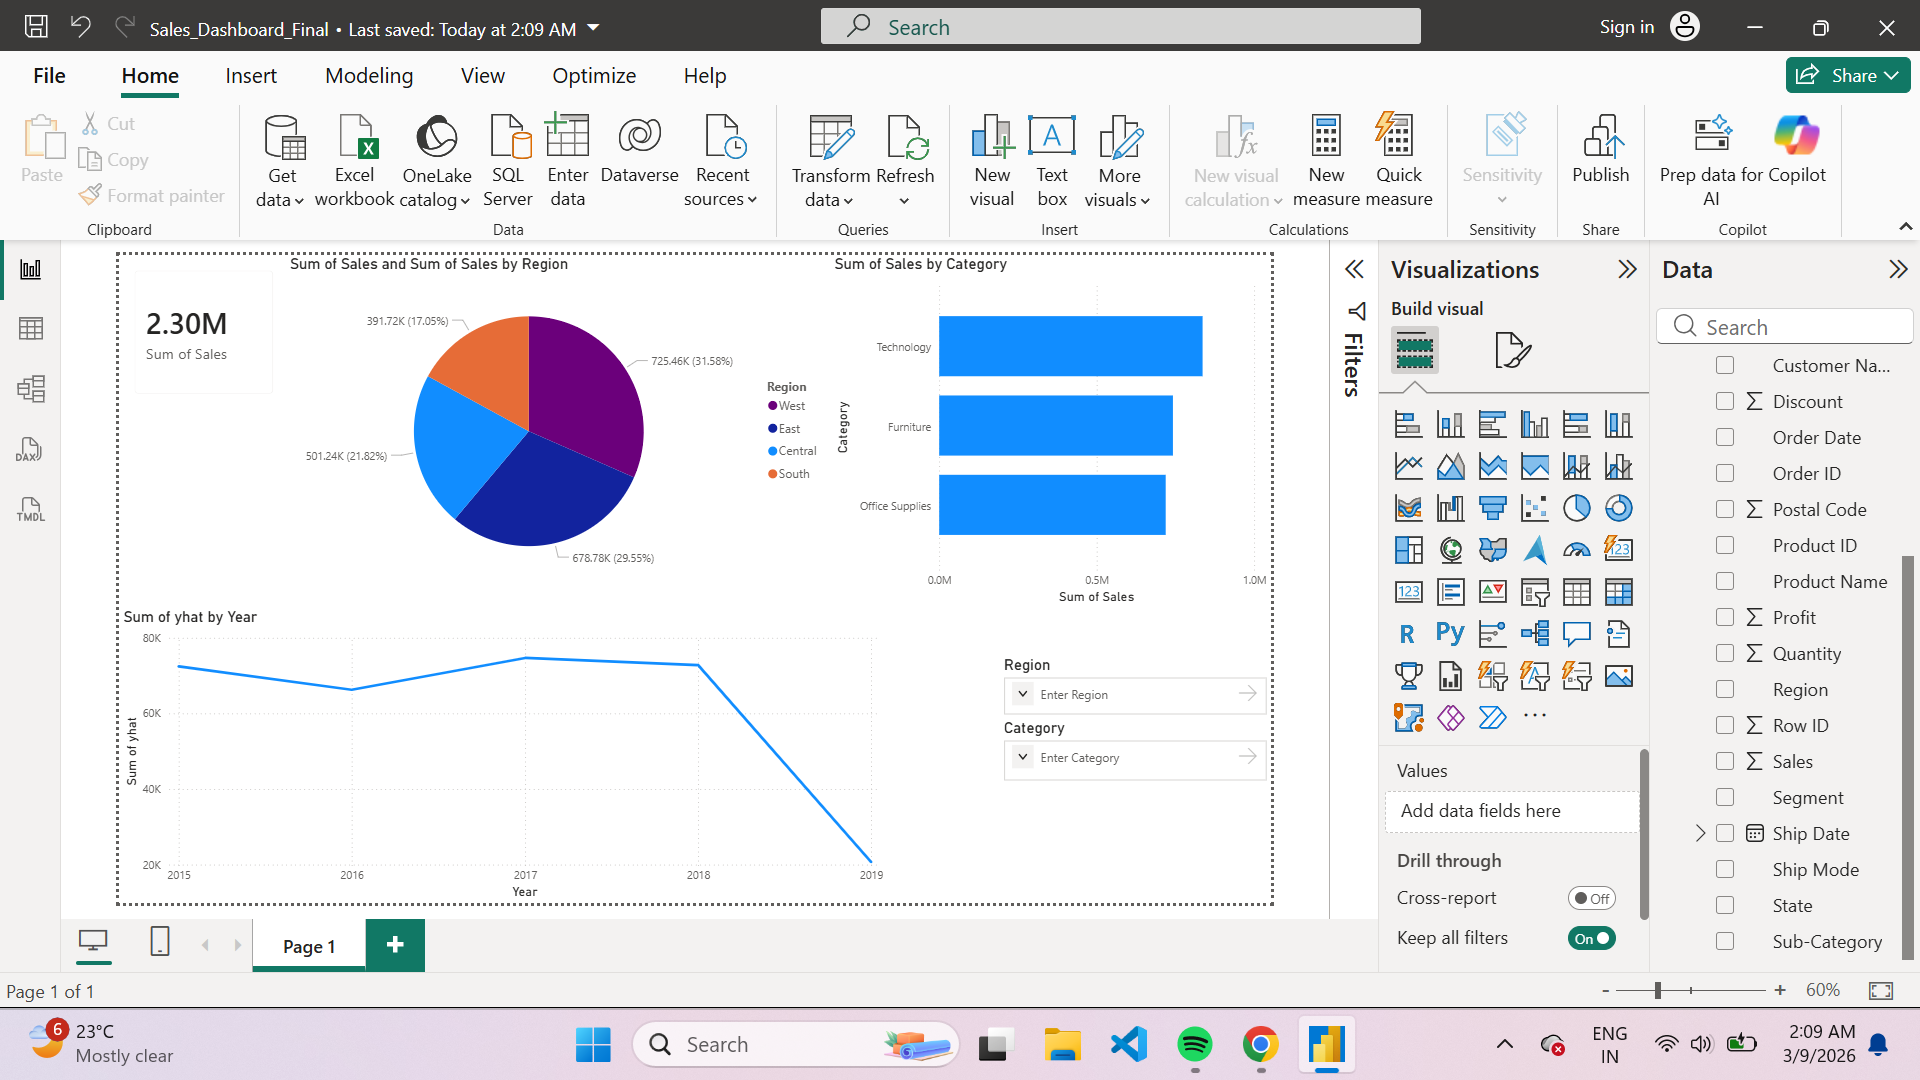

What the dashboard file says about the page in this screenshot:
{"tool":"powerbi","page":{"name":"Page 1","canvas":[1280,720],"ordinal":0},"visuals":[{"type":"pieChart","fields":{"Category":["superstore.Region","superstore.Category"],"Y":["Sum(superstore.Sales)","Sum(superstore.Sales)"]},"box":[185,0,605,371.7],"z":0},{"type":"barChart","fields":{"Category":["superstore.Category"],"Y":["Sum(superstore.Sales)"]},"box":[790,0,490,391.7],"z":1000},{"type":"cardVisual","fields":{"Data":["Sum(superstore.Sales)"]},"box":[0,0,188.3,171.7],"z":2000},{"type":"lineChart","fields":{"Category":["sales_prediction.ds.Variation.Date Hierarchy.Year","sales_prediction.ds.Variation.Date Hierarchy.Quarter","sales_prediction.ds.Variation.Date Hierarchy.Month","sales_prediction.ds.Variation.Date Hierarchy.Day"],"Y":["Sum(sales_prediction.yhat)"]},"box":[0,391.7,853.3,328.3],"z":3000},{"type":"textSlicer","fields":{"Values":["superstore.Region"]},"box":[978.3,445,301.7,70],"z":4000},{"type":"textSlicer","fields":{"Values":["superstore.Category"]},"box":[978.3,515,301.7,73.3],"z":4001}]}

Visuals, with their boxes on the page's 1280x720 design canvas (x1, y1, x2, y2). These are canvas units, not pixel positions in the 1920x1080 screenshot, which may show the page scaled, cropped or inside an application window:
pieChart - superstore.Region x superstore.Category: {"x1": 185, "y1": 0, "x2": 790, "y2": 372}
barChart - superstore.Category x Sum(superstore.Sales): {"x1": 790, "y1": 0, "x2": 1280, "y2": 392}
cardVisual - Sum(superstore.Sales): {"x1": 0, "y1": 0, "x2": 188, "y2": 172}
lineChart - sales_prediction.ds.Variation.Date Hierarchy.Year x sales_prediction.ds.Variation.Date Hierarchy.Quarter: {"x1": 0, "y1": 392, "x2": 853, "y2": 720}
textSlicer - superstore.Region: {"x1": 978, "y1": 445, "x2": 1280, "y2": 515}
textSlicer - superstore.Category: {"x1": 978, "y1": 515, "x2": 1280, "y2": 588}
